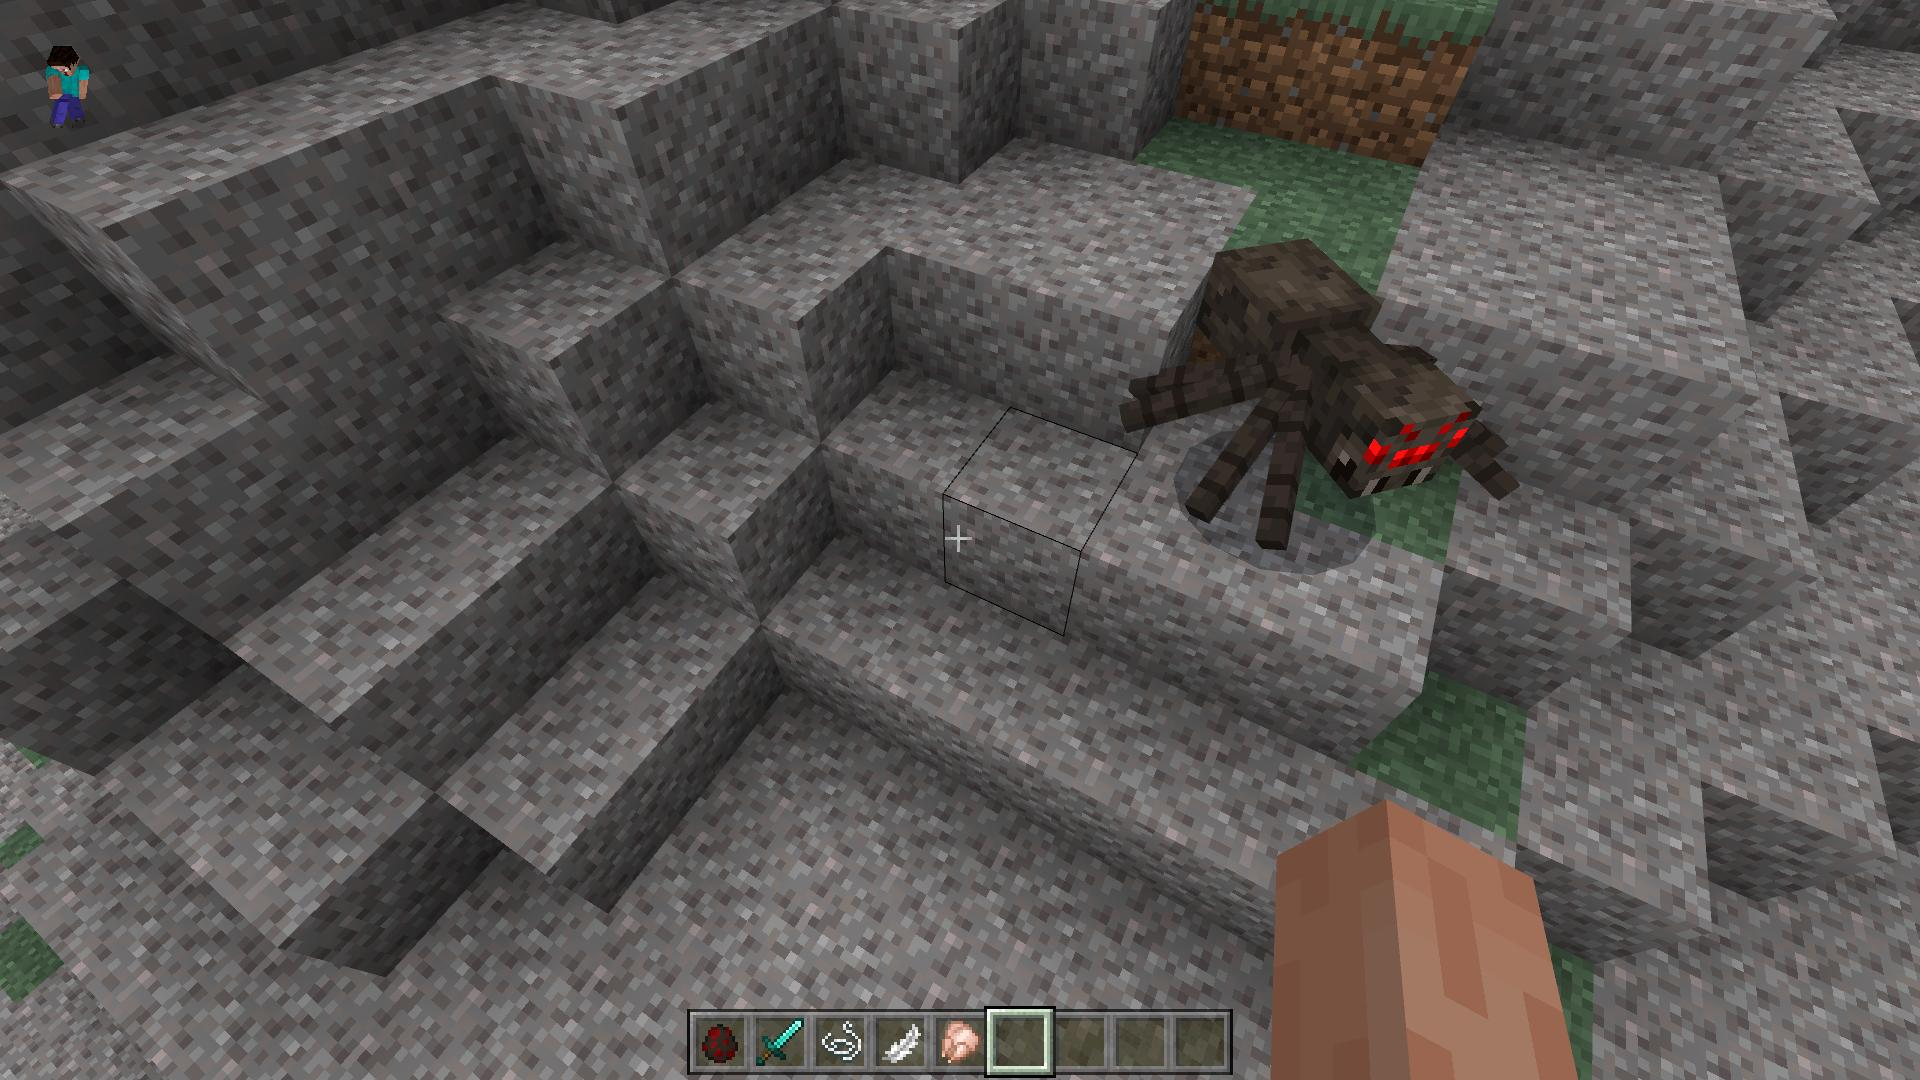spider: (1129, 236, 1524, 551)
